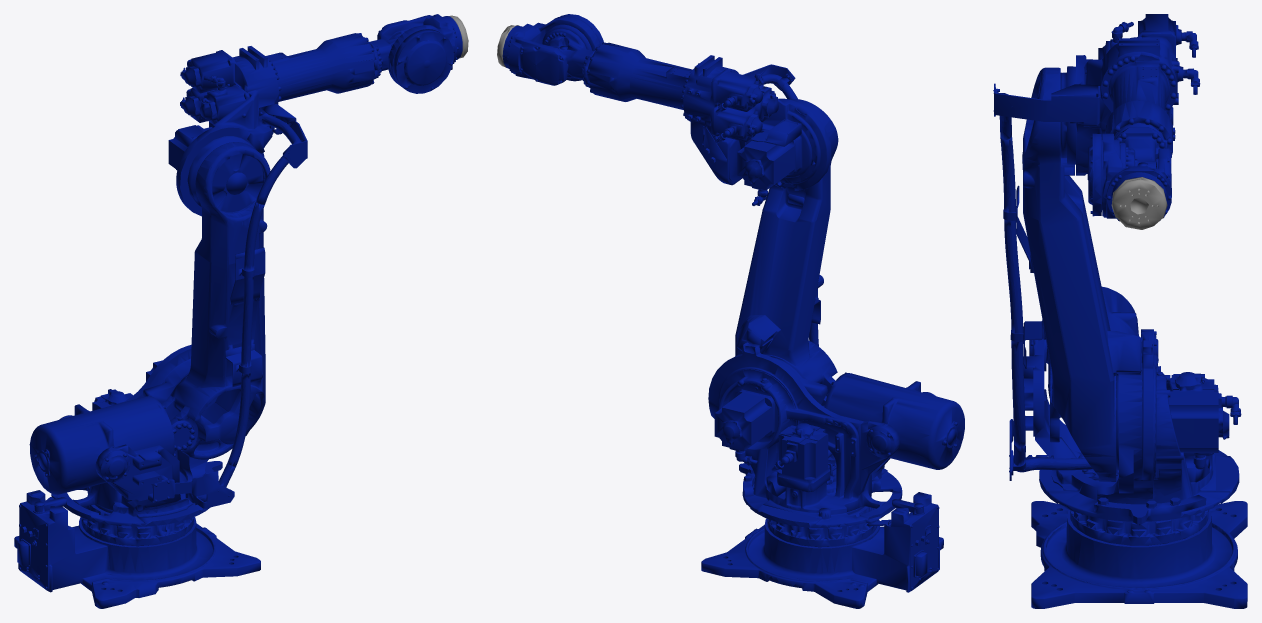
The picture shows the model from 3 angles, left to right: view 1: azimuth 30°, elevation 25°; view 2: azimuth 150°, elevation 25°; view 3: azimuth 270°, elevation 25°; orthographic projection. The views are drawn at different scales.
Parts seen in each view (by area): view 1: GP280-gp280.002, GP280-gp280.003, GP280-gp280, GP280-gp280.001, GP280-gp280.007, GP280-gp280.004, GP280-gp280.005; view 2: GP280-gp280.001, GP280-gp280.003, GP280-gp280, GP280-gp280.002, GP280-gp280.007, GP280-gp280.005, GP280-gp280.004; view 3: GP280-gp280.002, GP280-gp280.001, GP280-gp280, GP280-gp280.003, GP280-gp280.004, GP280-gp280.005, GP280-gp280.006, GP280-gp280.007.
Part boxes in pixels (bbox=[...]): GP280-gp280.002: bbox=[162, 142, 270, 466]; GP280-gp280.003: bbox=[168, 33, 378, 216]; GP280-gp280: bbox=[14, 490, 260, 608]; GP280-gp280.001: bbox=[51, 344, 249, 526]; GP280-gp280.007: bbox=[29, 395, 175, 494]; GP280-gp280.004: bbox=[364, 29, 453, 93]; GP280-gp280.005: bbox=[377, 14, 462, 87]; GP280-gp280.001: bbox=[708, 342, 935, 527]; GP280-gp280.003: bbox=[586, 42, 831, 205]; GP280-gp280: bbox=[701, 492, 943, 608]; GP280-gp280.002: bbox=[735, 99, 838, 405]; GP280-gp280.007: bbox=[823, 372, 964, 469]; GP280-gp280.005: bbox=[502, 16, 600, 85]; GP280-gp280.004: bbox=[542, 14, 603, 87]; GP280-gp280.002: bbox=[1000, 67, 1141, 481]; GP280-gp280.001: bbox=[1009, 329, 1241, 525]; GP280-gp280: bbox=[1031, 501, 1247, 608]; GP280-gp280.003: bbox=[993, 14, 1200, 175]; GP280-gp280.004: bbox=[1087, 127, 1167, 216]; GP280-gp280.005: bbox=[1102, 133, 1171, 221]; GP280-gp280.006: bbox=[1111, 177, 1167, 229]; GP280-gp280.007: bbox=[1046, 286, 1139, 398].
Bounding box in the file's own units: 2.1 × 2.2 × 0.8635.
